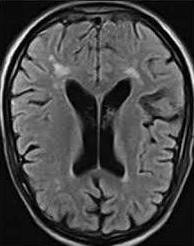Normal_Brain: (11, 2, 194, 246)
